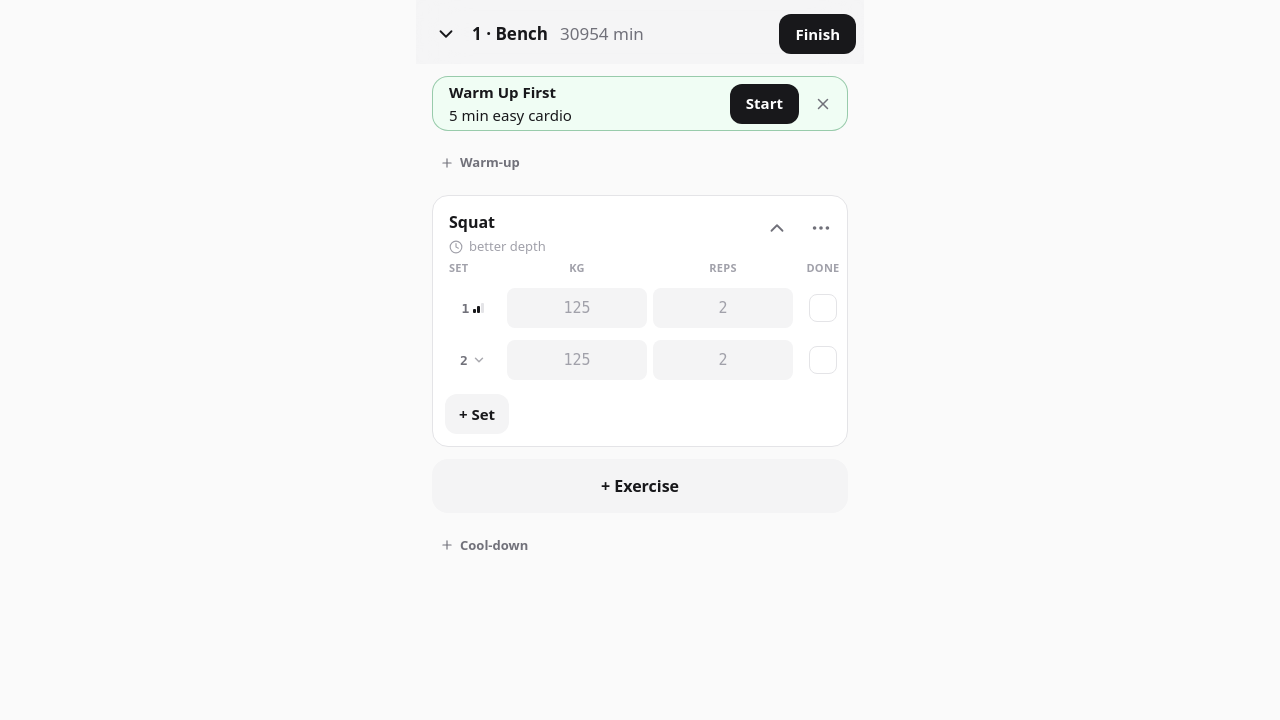
it: Session › ticking a working set that already has an effort does not ask again
Click the button named "Set 1 done" at coordinates (823, 308), box top-left (799, 284), bottom-right (847, 332)
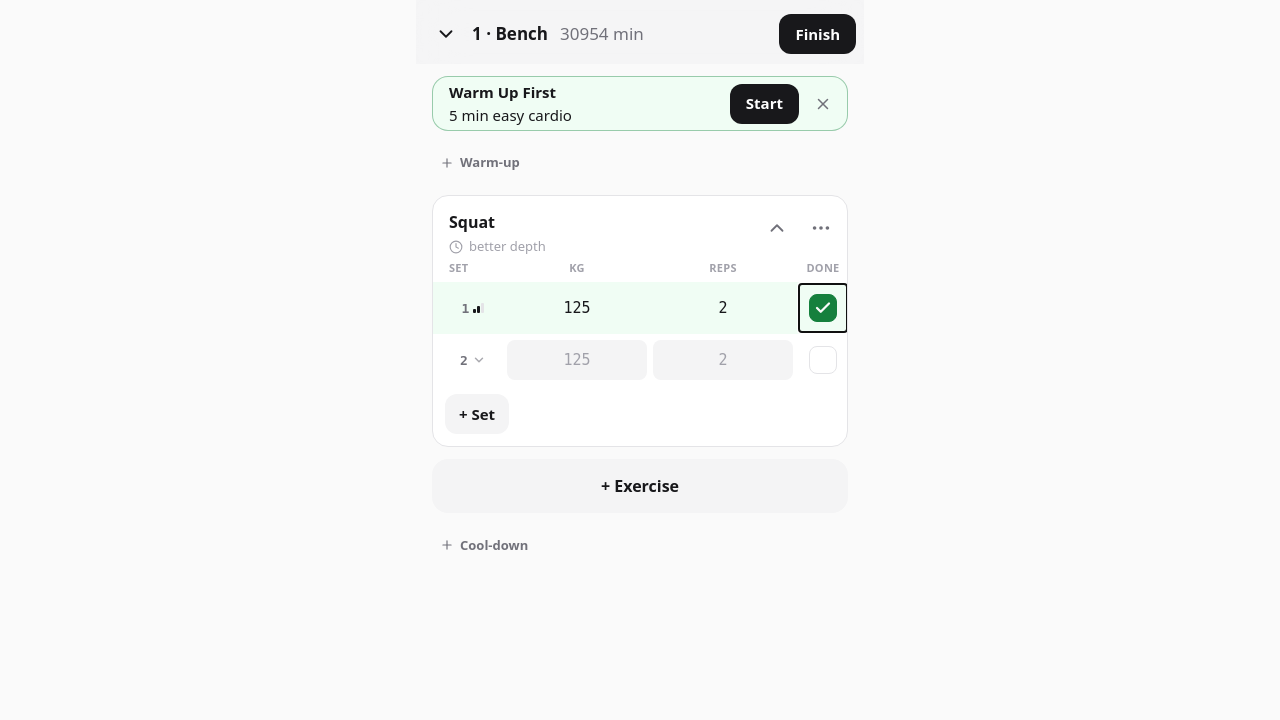
Expected: the dialog "How Hard Was It?" is not shown
A set without an effort still asks.
Click the button named "Set 2 done" at coordinates (823, 360), box top-left (799, 336), bottom-right (847, 384)
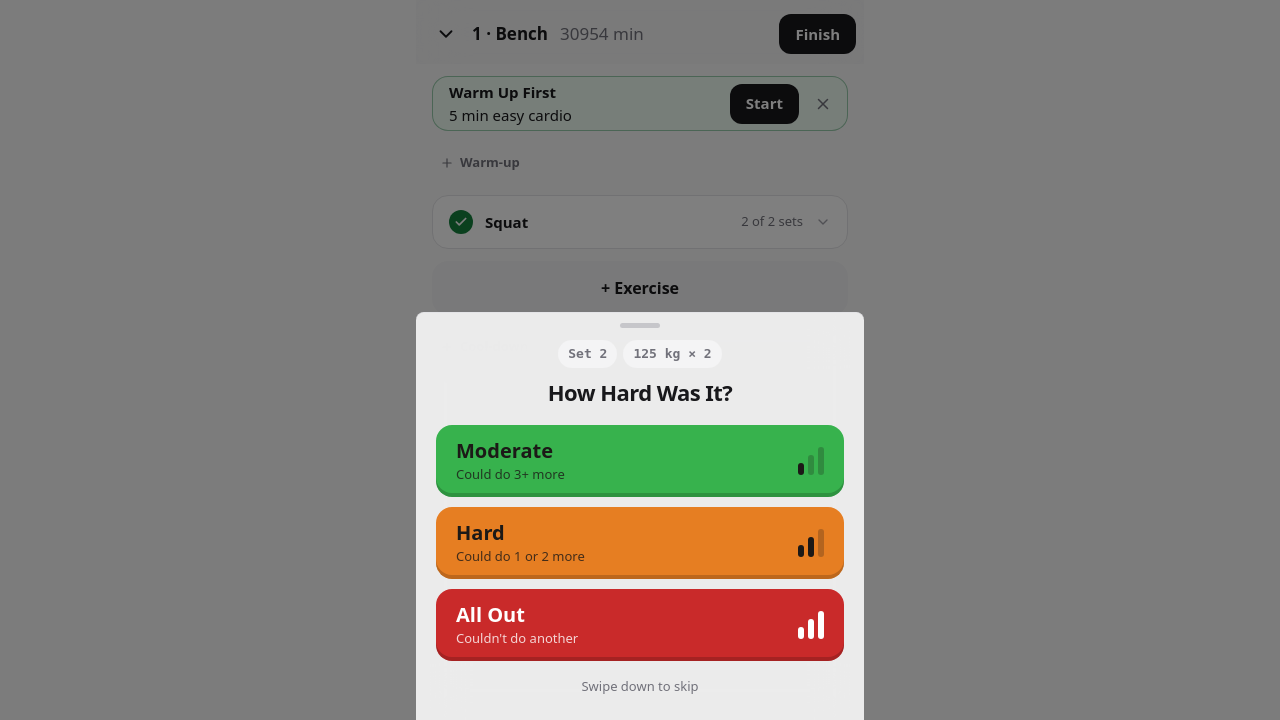
Expected: the dialog "How Hard Was It?" is shown, top-left (416, 312), bottom-right (864, 719)
